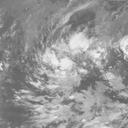cyclone: (36, 31, 88, 86)
